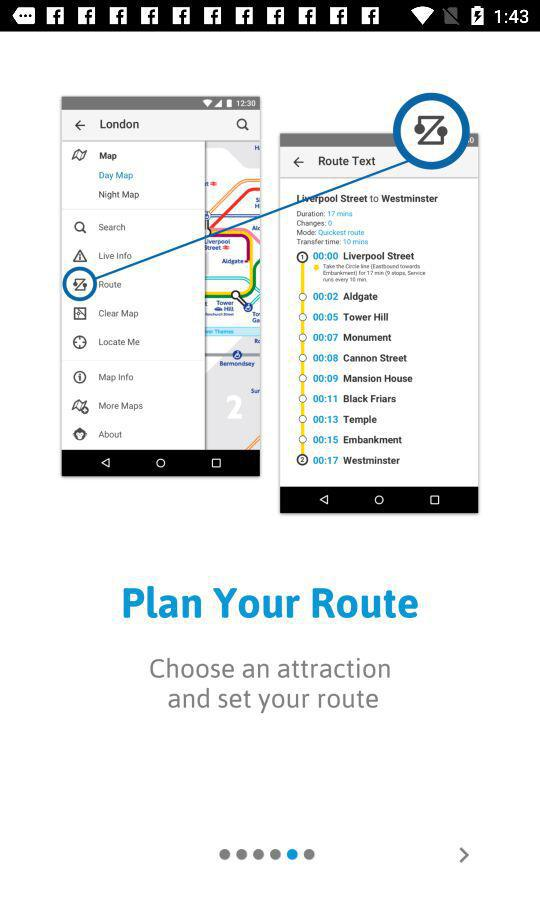Icon: (455, 844, 471, 866)
Image: (61, 92, 480, 515)
PageIndicator: (219, 848, 316, 861)
Text: (150, 657, 391, 714), (123, 585, 419, 621)
UpperTaskBar: (1, 1, 540, 33)
